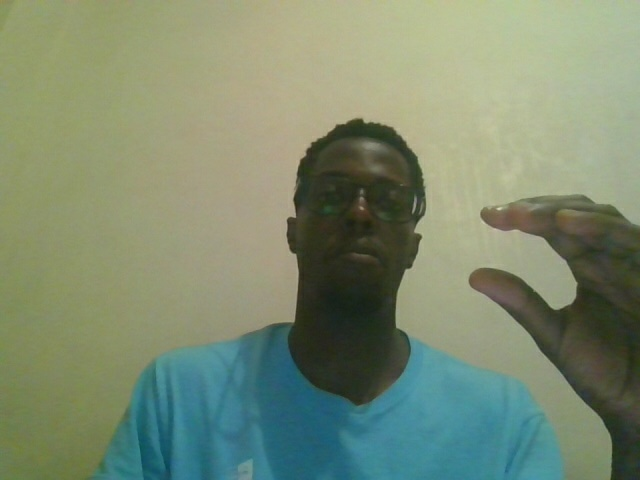No: (459, 186, 640, 467)
